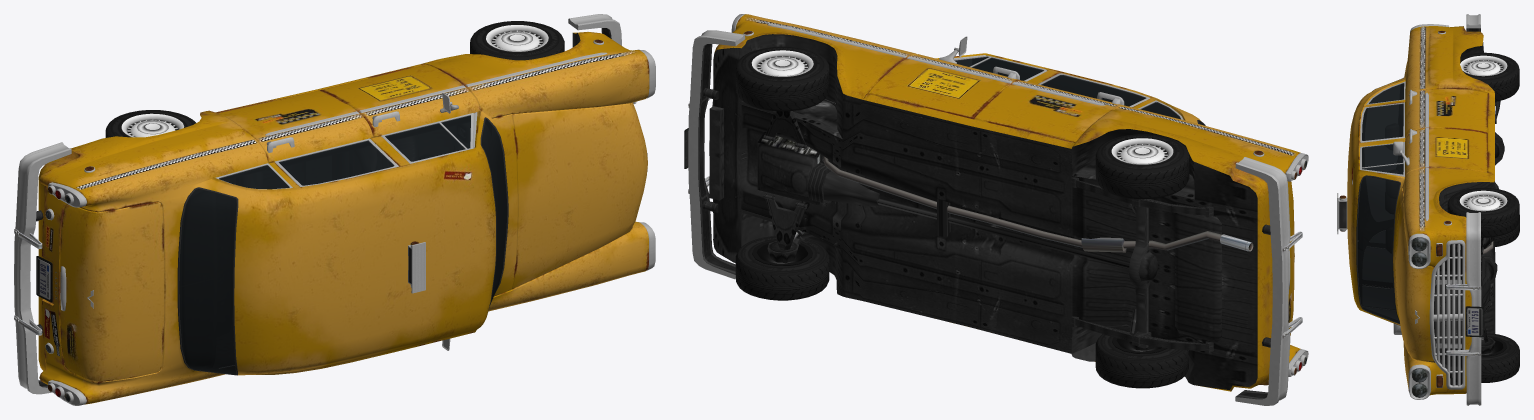
3 views of the same model, side by side, from view 1: azimuth 30°, elevation 25°; view 2: azimuth 150°, elevation 25°; view 3: azimuth 270°, elevation 25° (orthographic). The views are drawn at different scales.
Parts seen in each view (by area): view 1: canyon75_taxi; view 2: canyon75_taxi; view 3: canyon75_taxi.
Boxes of the visible parts, x1,y1,x2,y2 form: canyon75_taxi: [14, 14, 655, 405]; canyon75_taxi: [684, 14, 1308, 405]; canyon75_taxi: [1337, 14, 1519, 405].
Size of the model in its own units: 5.31 by 2.13 by 1.83.
Materials: 8 (8 with a texture image).
